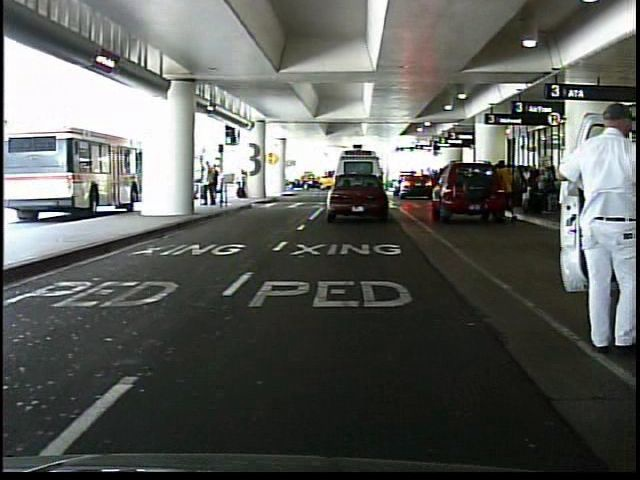person: (549, 98, 638, 360), (586, 149, 615, 224), (500, 157, 519, 223), (201, 155, 219, 209), (209, 162, 223, 208), (237, 166, 254, 202)
